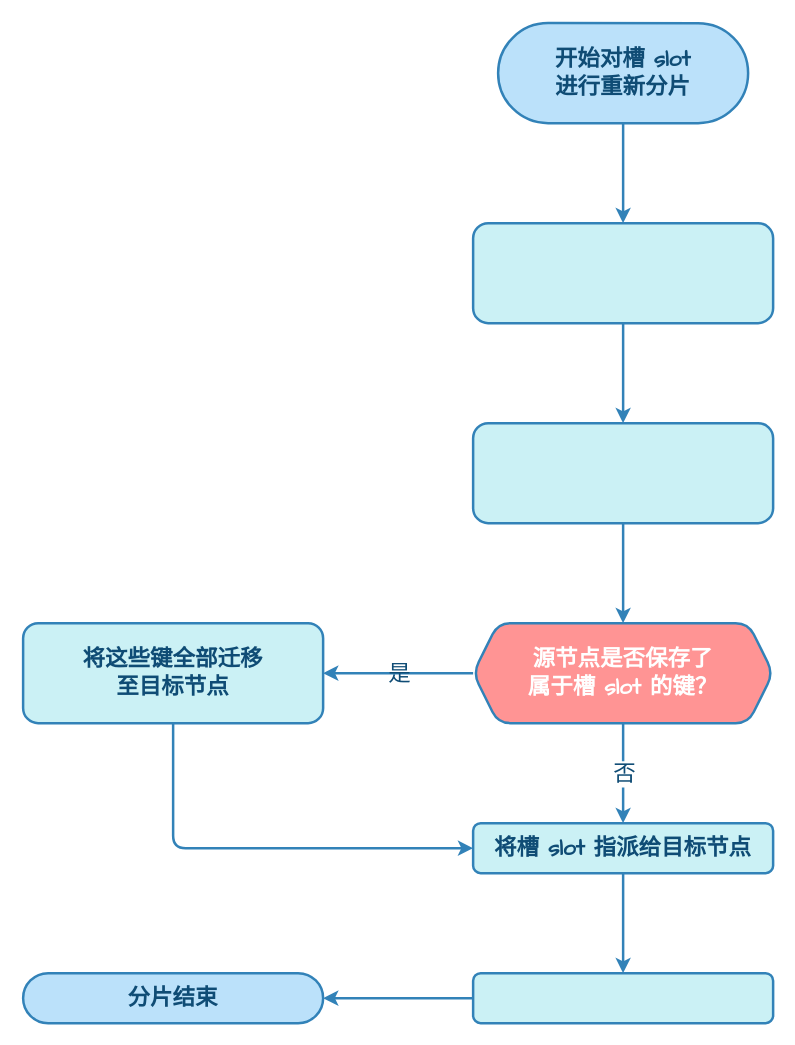
This 795x1045 diagram has some shape labels left out. The centre of each missing label's shape, as x and y in pixels:
完成对槽 slot 的重新分片: the point at 622,997
源节点准备迁移 槽 slot 的键值对: the point at 622,472
目标节点准备导入 槽 slot 的键值对: the point at 622,272
